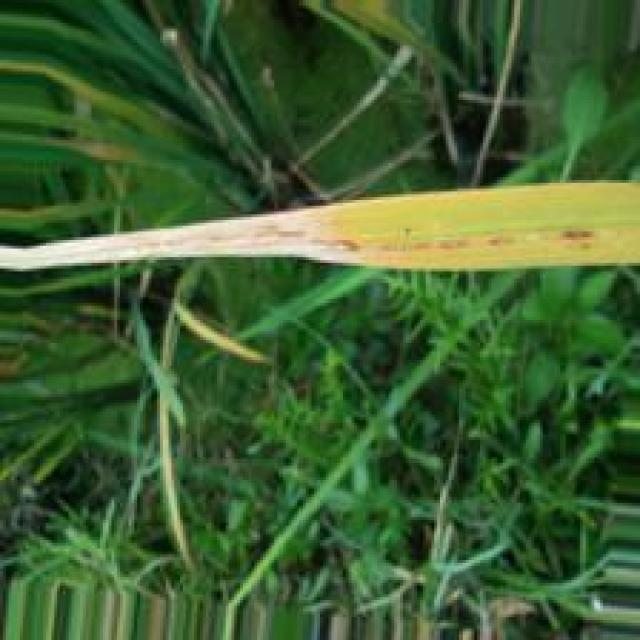Narrow_Brown_Leaf_Spot: (0, 198, 640, 277)
